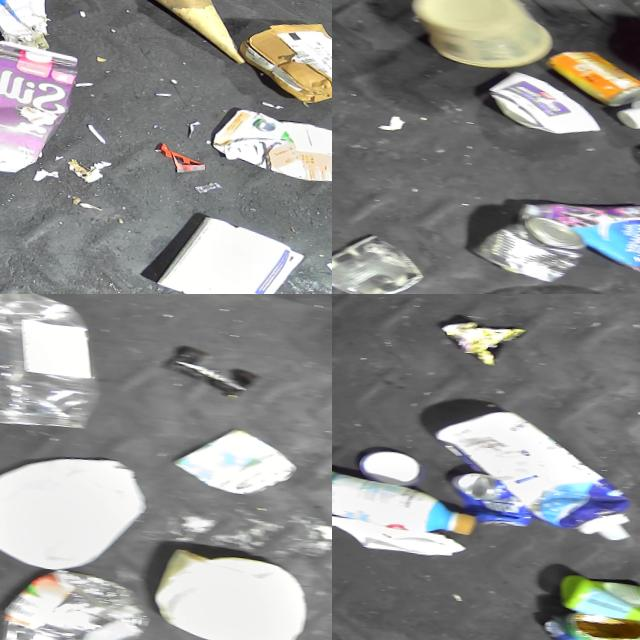can: (168, 415, 300, 493), (470, 202, 590, 277), (332, 220, 430, 294), (539, 34, 640, 96), (450, 466, 529, 525), (542, 602, 640, 640)
milk_jug: (0, 436, 158, 574), (149, 531, 310, 640)
non_white_jug: (0, 29, 78, 171), (212, 94, 332, 173)
plastic_bottle: (0, 559, 152, 640)
